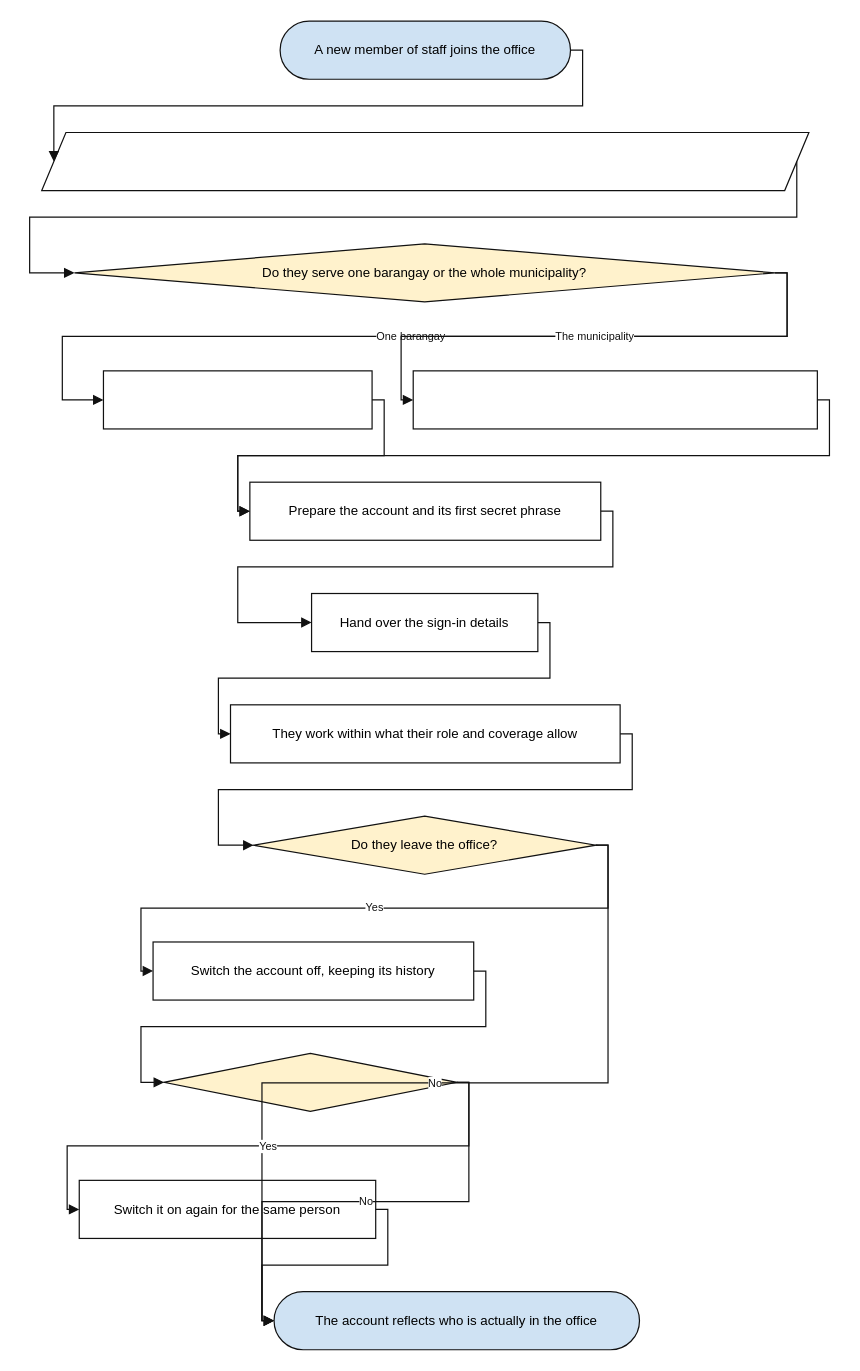
Image size: 860x1371. Some labels were removed from this diagram. Each missing label, with the box of its shape:
Do they come back?: (163, 1052, 457, 1111)
Note that they may work anywhere in the municipality: (412, 370, 817, 429)
Note the barangay they answer for: (102, 370, 372, 429)
Take their name, contact details and the role they will hold: (41, 131, 809, 191)
